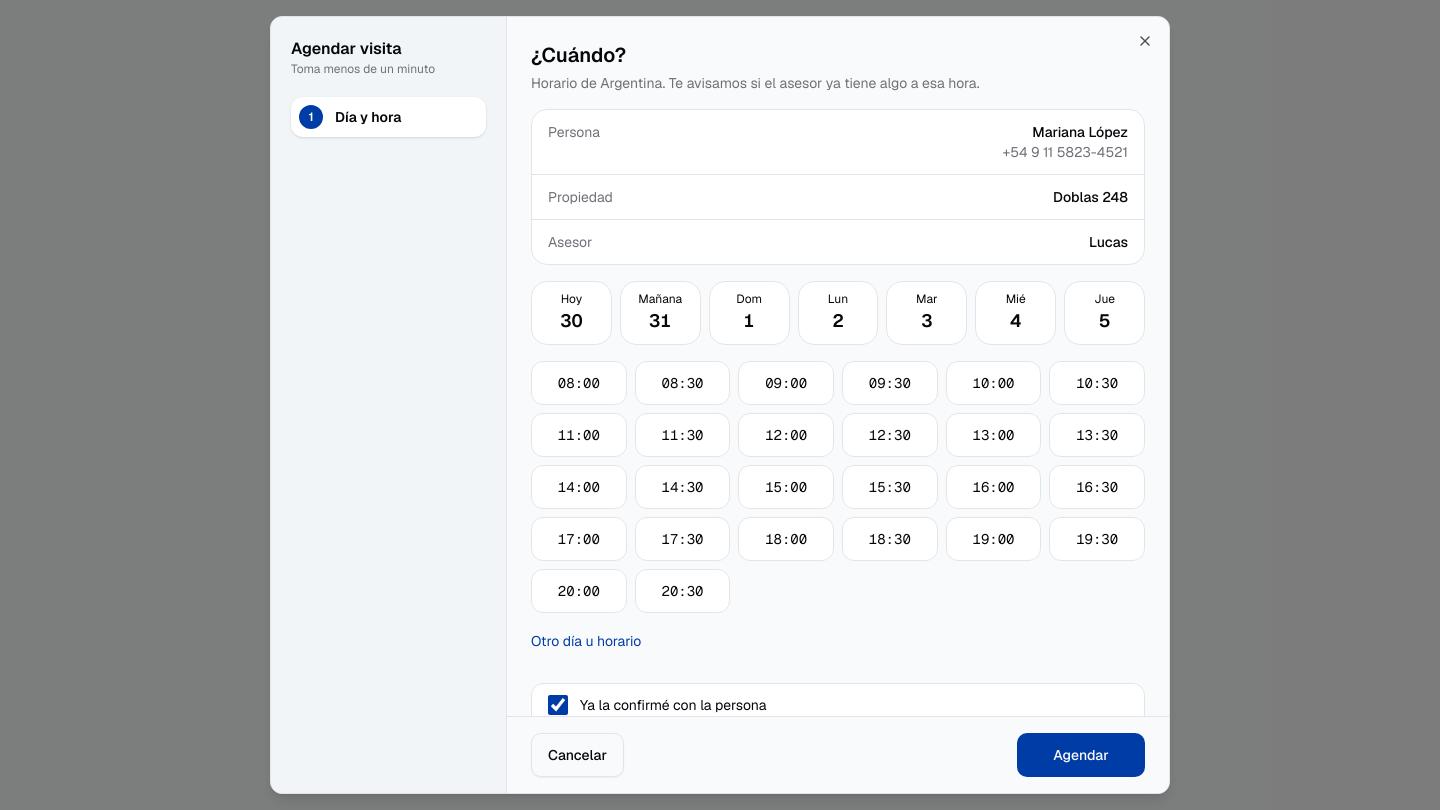
it: AgendarVisitaDialog — modo rápido desde una consulta › 409 VISITA_DUPLICADA → pasa a la revisión con el aviso del duplicado
expect the heading "¿Cuándo?" is shown: met, box [531,42,626,68]
Click the button "Hoy 30" at (571, 313), box [531,281,612,345]
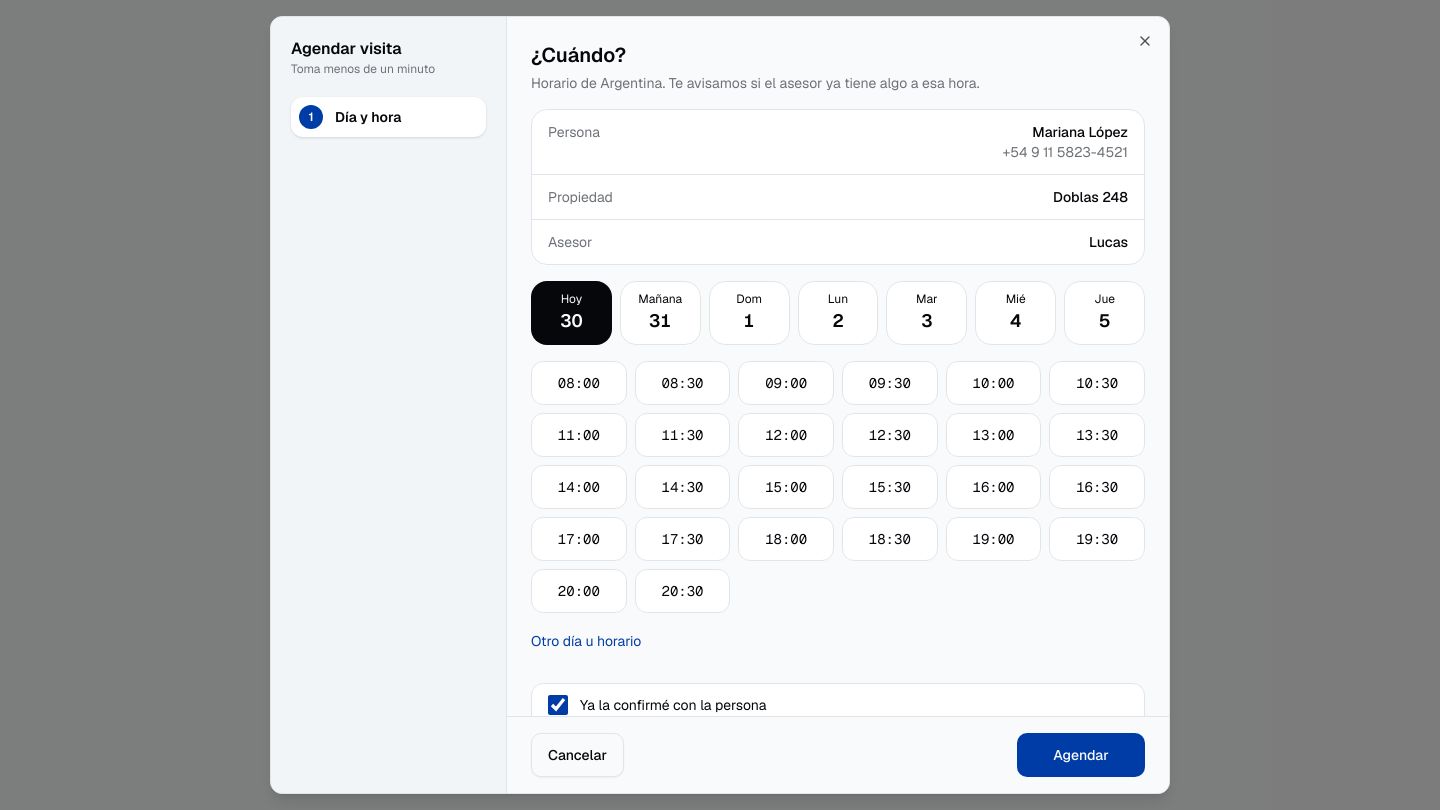
Click the button "10:00" at (994, 383), box [946,361,1041,405]
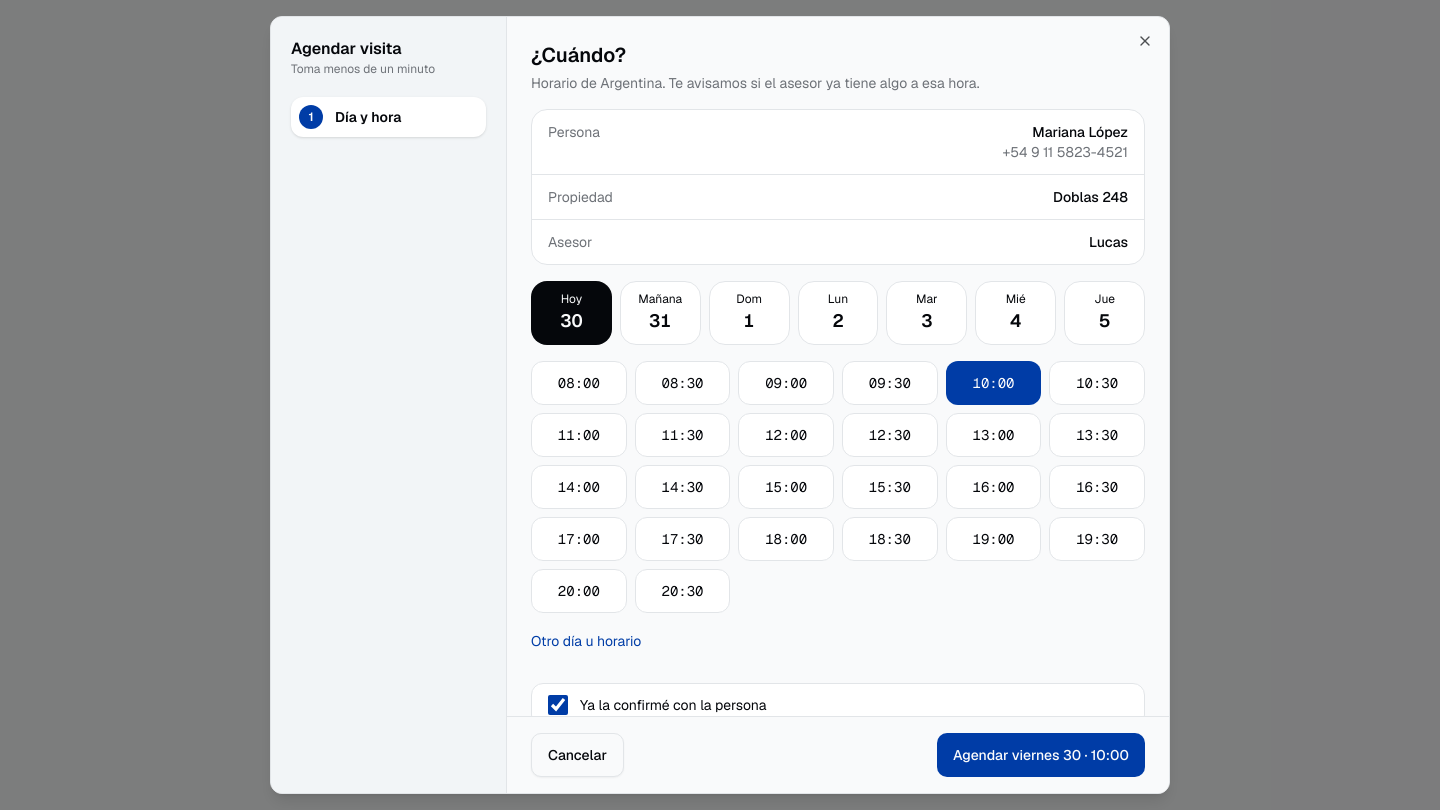
Click the button "Agendar viernes 30 · 10:00" at (1041, 755), box [937,733,1145,777]
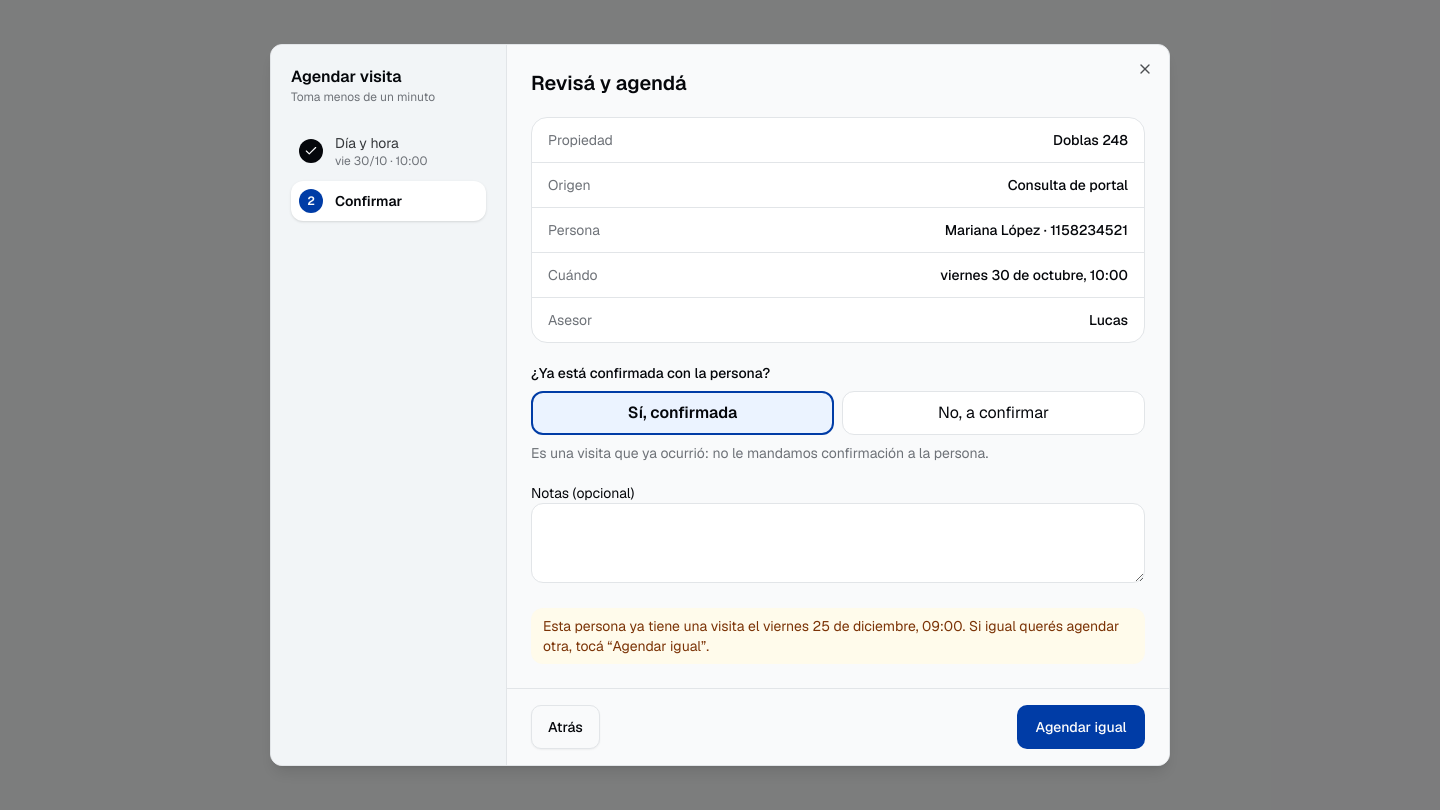
expect the heading "Revisá y agendá" is shown: met, box [531,70,687,96]
expect the text "Esta persona ya tiene una visita el" is shown: met, box [543,617,763,635]
expect the button "Agendar igual" is shown: met, box [1017,705,1145,749]
